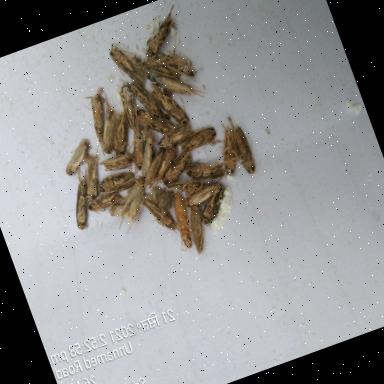pbw: (104, 174, 160, 236), (150, 26, 201, 88), (59, 167, 107, 232), (134, 4, 189, 58), (85, 92, 128, 160), (70, 144, 116, 203), (154, 63, 208, 112), (136, 144, 188, 194), (106, 36, 150, 94), (146, 76, 190, 132), (210, 120, 249, 178), (138, 44, 184, 92), (163, 193, 200, 252), (119, 118, 157, 174), (128, 128, 168, 178), (112, 77, 146, 134), (191, 184, 235, 228), (184, 150, 234, 188), (154, 148, 199, 190), (134, 98, 176, 142), (142, 192, 180, 240), (152, 118, 204, 153), (228, 124, 262, 177), (103, 110, 140, 156), (178, 127, 223, 164), (182, 204, 214, 256), (92, 162, 138, 198), (58, 138, 99, 178), (85, 185, 132, 217), (130, 76, 162, 122), (162, 174, 206, 206), (182, 180, 225, 208), (98, 152, 136, 176), (106, 201, 128, 220)
